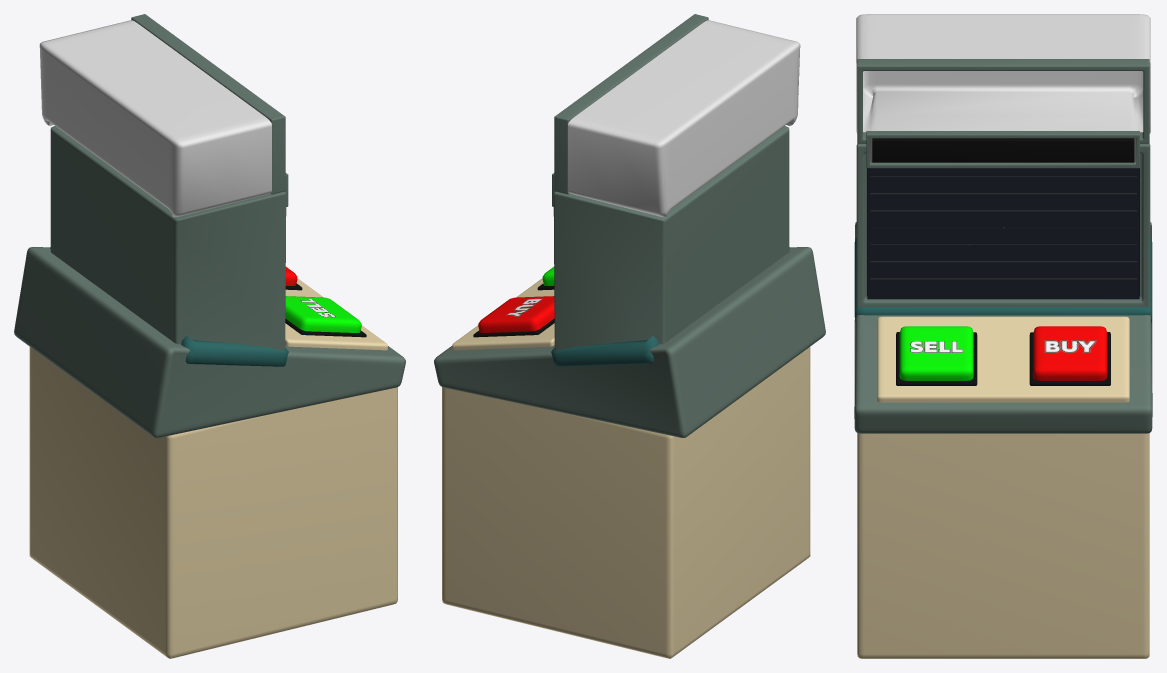
File: ExchangeMachine.fbx
3 renders of one model, left to right at view 1: azimuth 30°, elevation 25°; view 2: azimuth 150°, elevation 25°; view 3: azimuth 270°, elevation 25°, orthographic. The views are drawn at different scales.
Visible parts, largest first — view 1: Machine, Sell Button; view 2: Machine, Buy Button; view 3: Machine, Screen, PointScreen, Sell Button, Buy Button.
Boxes of the visible parts, bbox=[...] form: Machine: bbox=[14, 14, 405, 658]; Sell Button: bbox=[285, 296, 361, 332]; Machine: bbox=[434, 14, 825, 658]; Buy Button: bbox=[478, 296, 554, 332]; Machine: bbox=[854, 14, 1152, 658]; Screen: bbox=[867, 168, 1139, 299]; PointScreen: bbox=[866, 131, 1139, 168]; Sell Button: bbox=[899, 326, 973, 380]; Buy Button: bbox=[1033, 326, 1107, 380].
Bounding box in the file's own units: 102 × 199 × 100.
